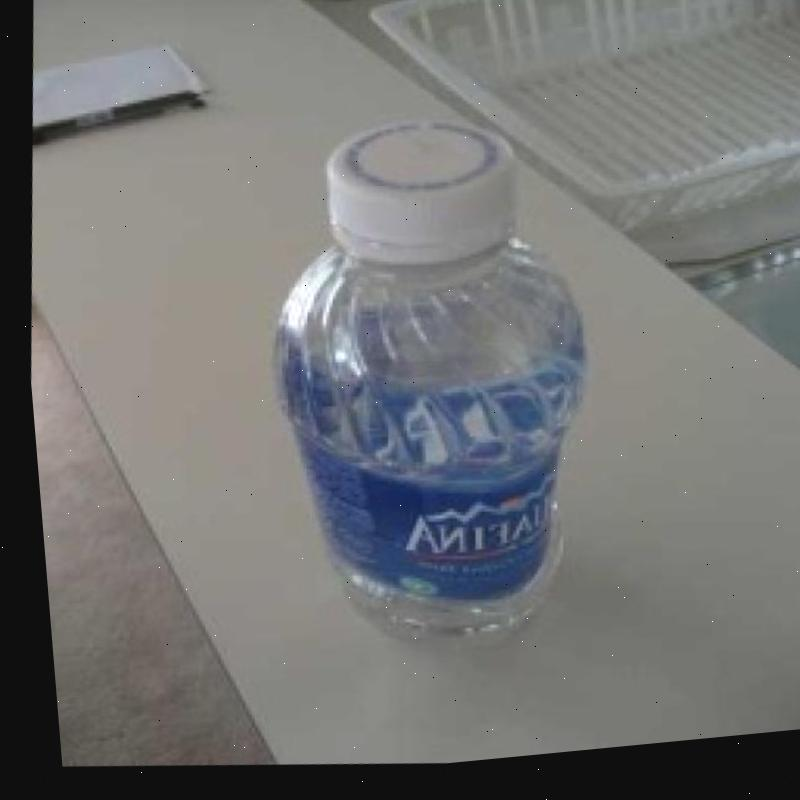botella: (226, 104, 624, 676)
